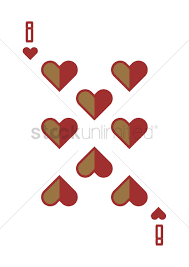eight of hearts: (8, 8, 183, 257)
